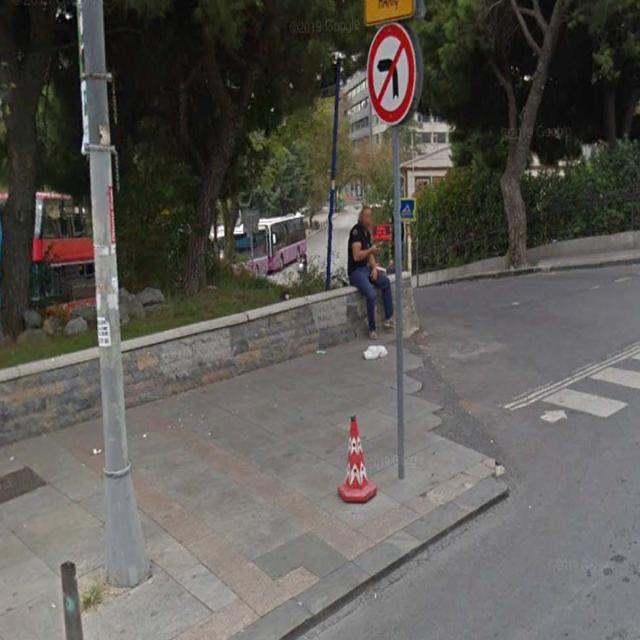soladonulmez: (367, 23, 415, 125)
